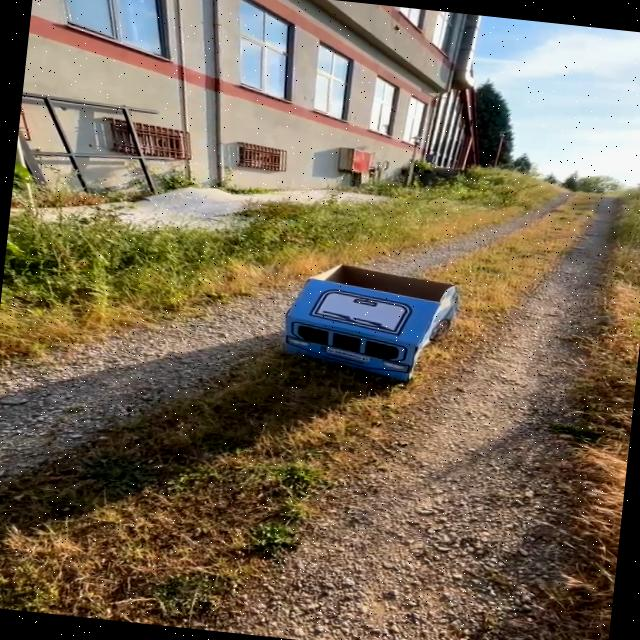blue_car: (234, 230, 477, 434)
